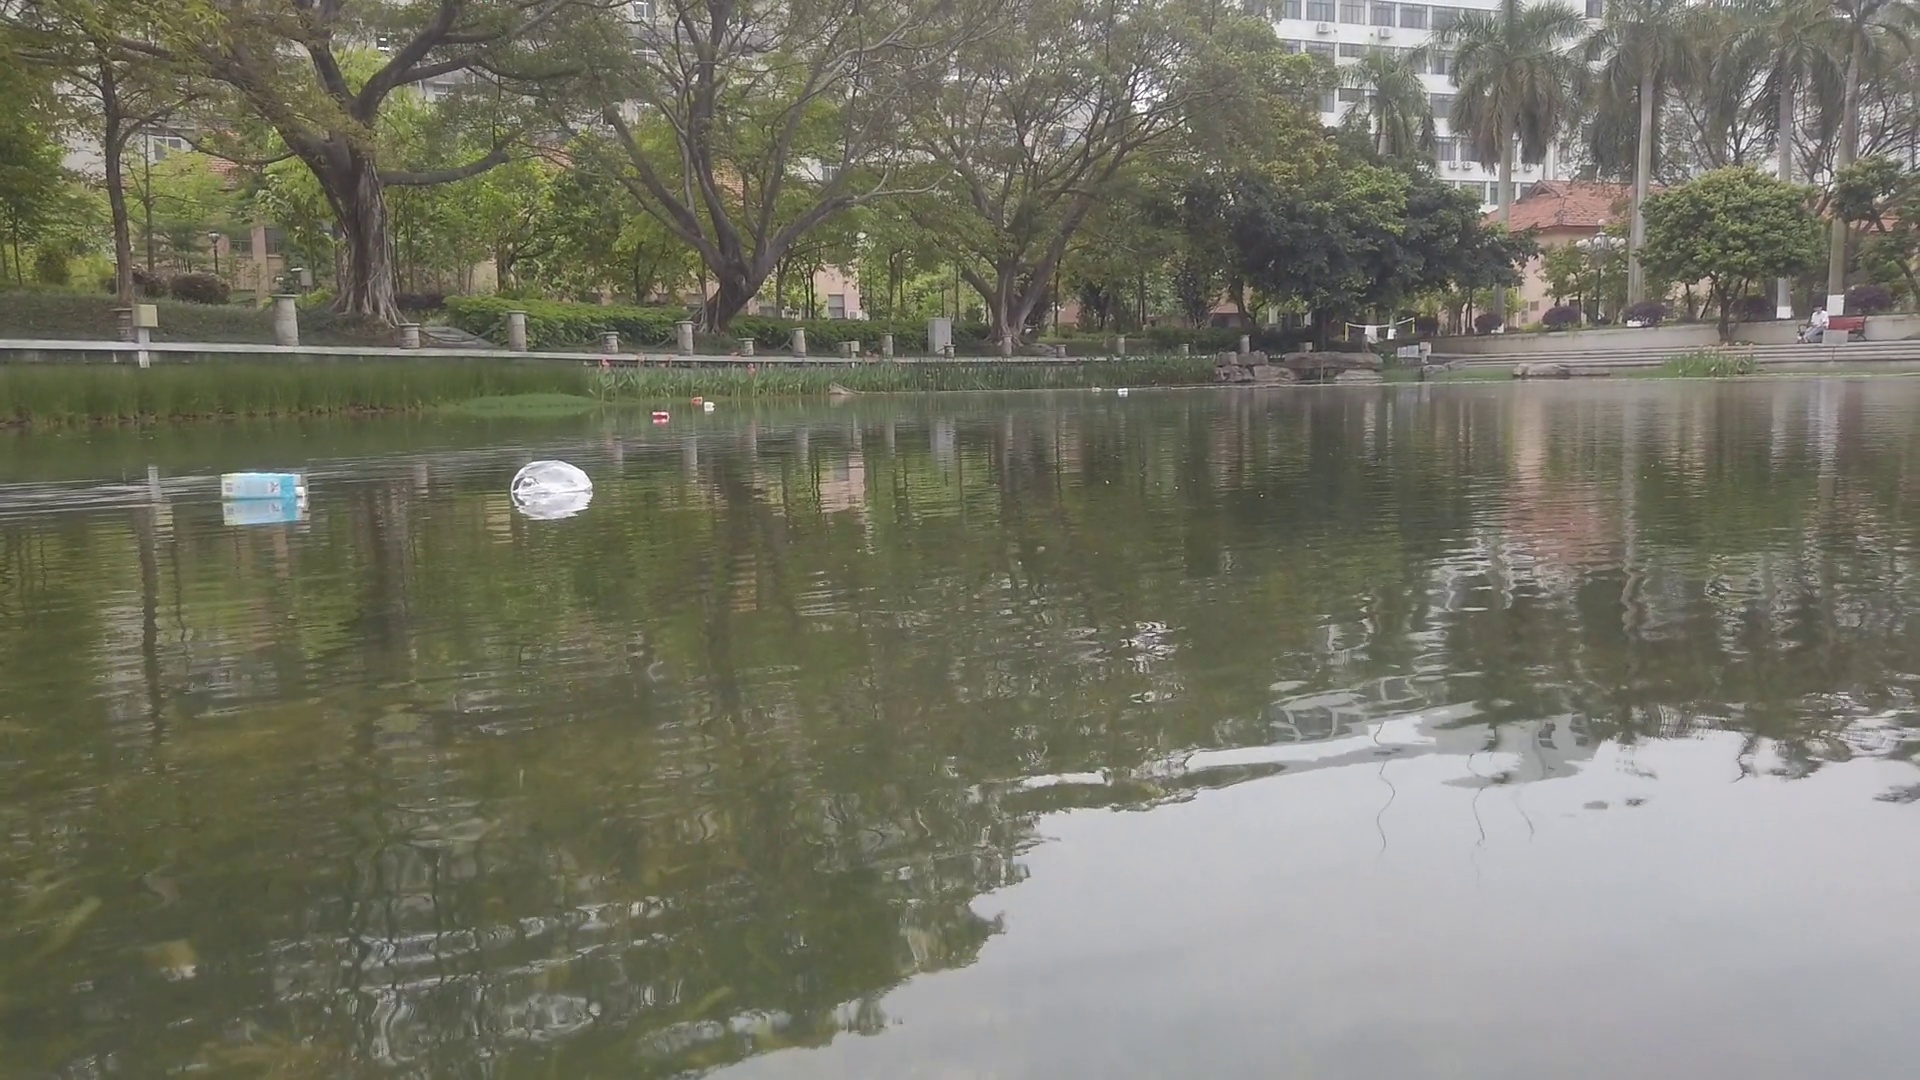bottle: (650, 411, 669, 421), (692, 394, 702, 404), (705, 401, 713, 409), (1093, 386, 1101, 393), (1120, 389, 1127, 396)
carton: (222, 472, 309, 498)
plastic: (512, 460, 596, 491)
